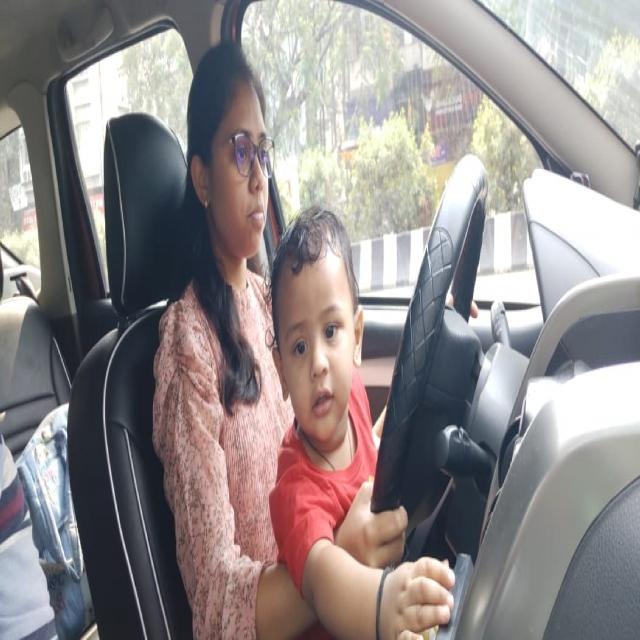child: (267, 203, 367, 452)
person: (185, 38, 276, 262)
